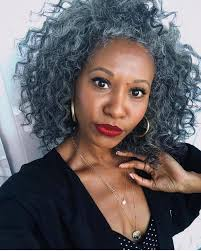black_female: (43, 6, 185, 166)
